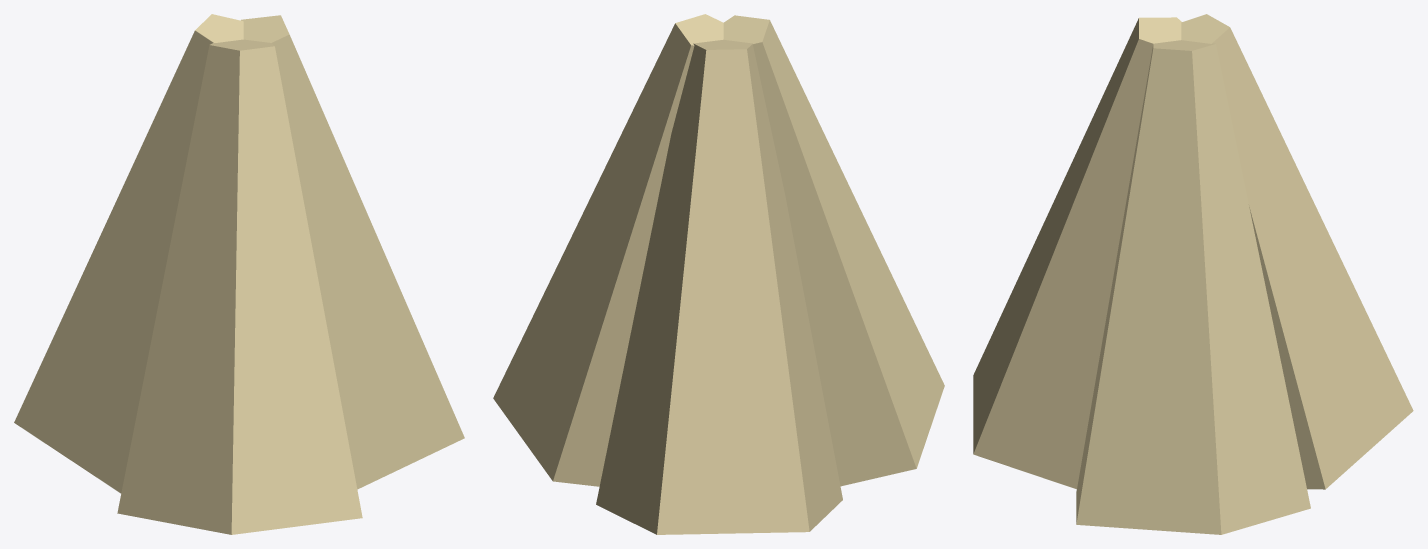
Rendered from prop_stook.glb.
3 views of the same model, side by side, from view 1: azimuth 30°, elevation 25°; view 2: azimuth 150°, elevation 25°; view 3: azimuth 270°, elevation 25° (orthographic).
Visible parts, largest first — view 1: prop_stook; view 2: prop_stook; view 3: prop_stook.
Boxes of the visible parts, box(x1,y1,x2,y2) form: prop_stook: box(14, 14, 464, 534); prop_stook: box(493, 14, 944, 534); prop_stook: box(973, 14, 1413, 534).
Size of the model in its own units: 0.0983 by 0.1156 by 0.1018.
